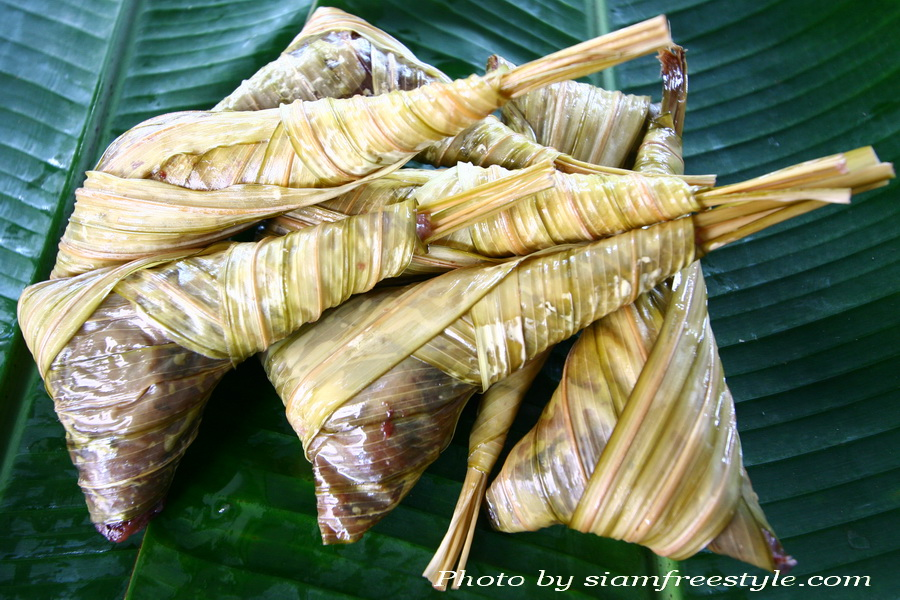kanomtom: (219, 242, 801, 550), (9, 211, 443, 550)
